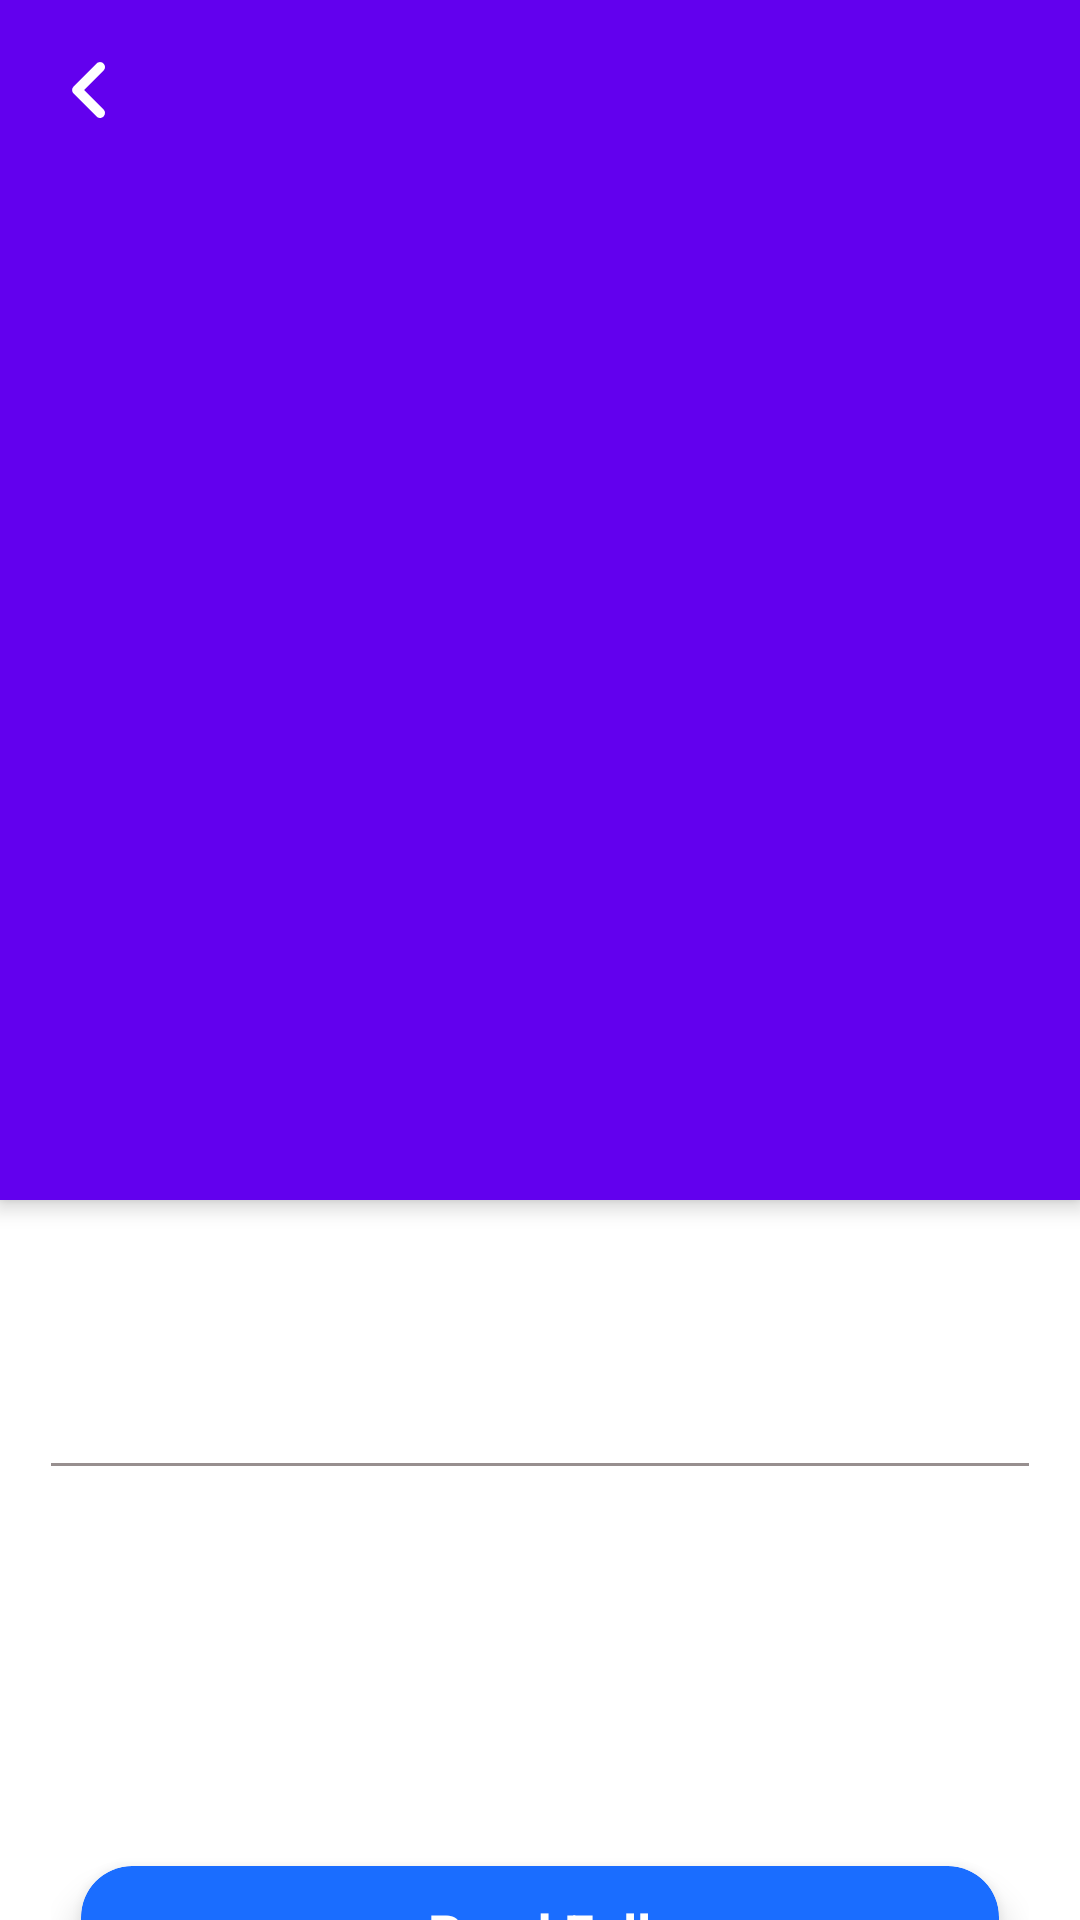

Icons on this 1080w x 1920h Android screen, each with its box as bbox=(x1, y1, x2, y2):
keyboard arrow left: bbox=(72, 62, 105, 118)
